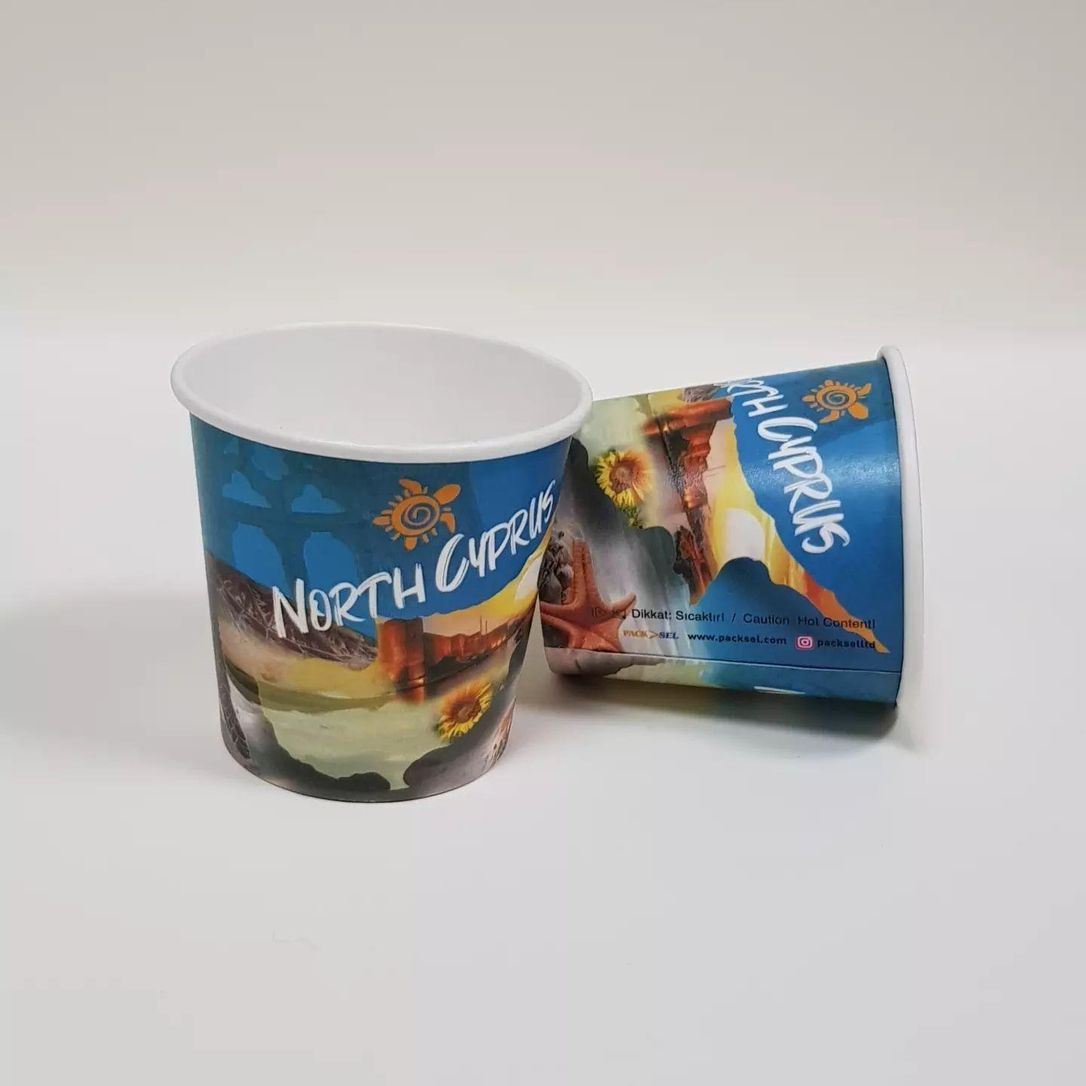cup-disposable: (170, 316, 598, 805), (545, 333, 941, 725)
